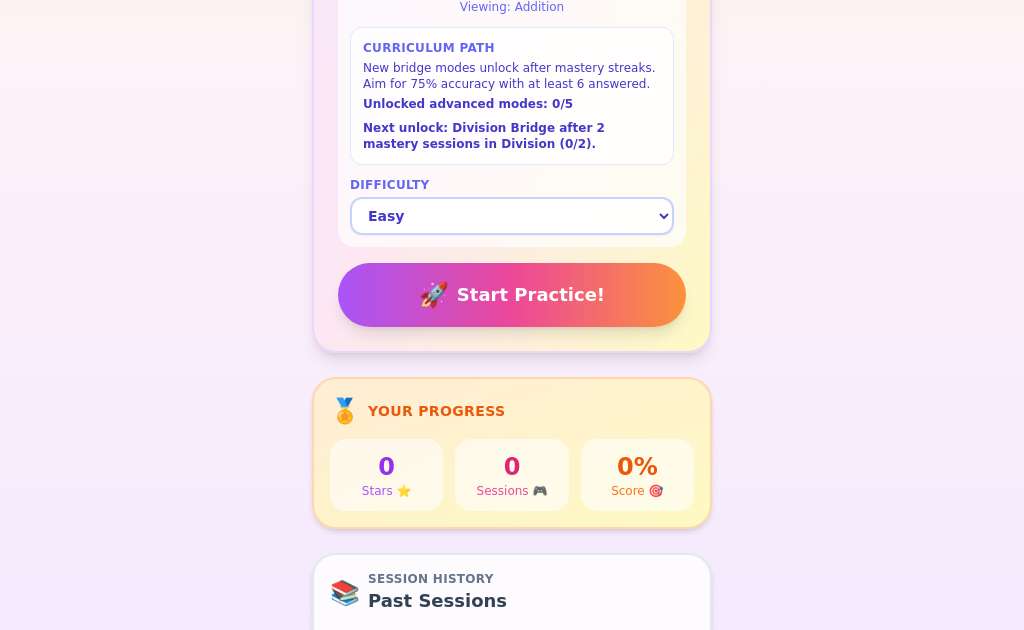
Test: deletes a session from the history list
(page scrolled)
Click the button "🚀 Start Practice!": [512, 295] box [338, 263, 686, 327]
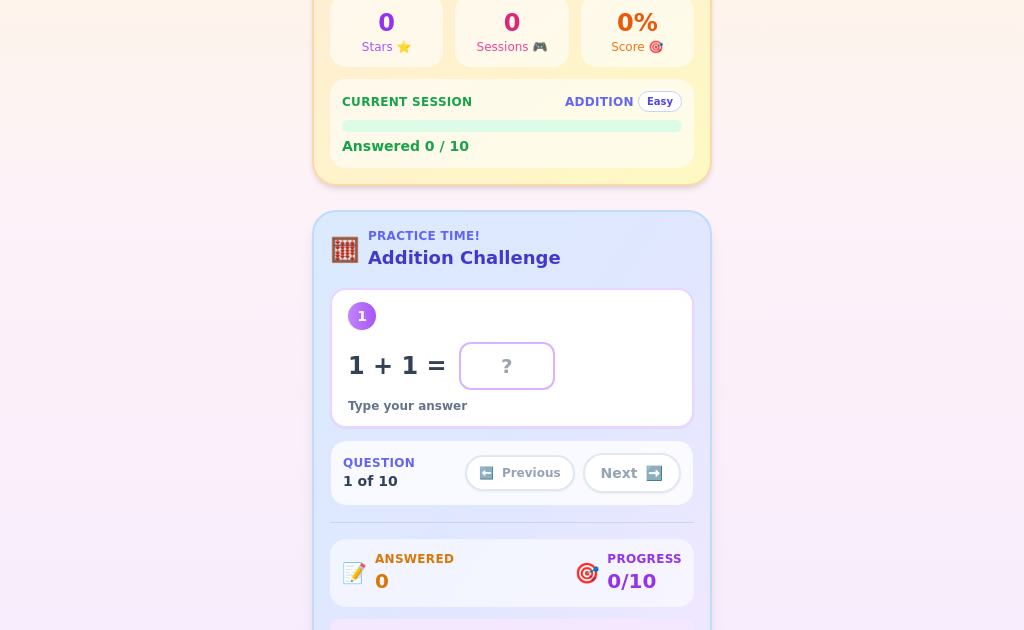
In the field named "answer for question 1": [507, 366] box [459, 342, 555, 390], type "1"
(page scrolled)
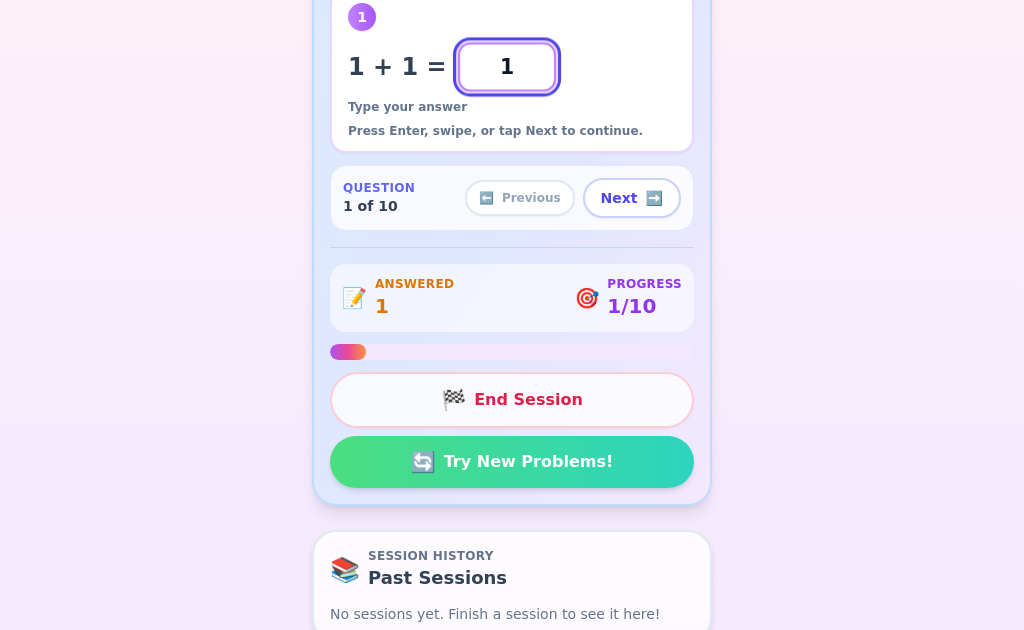
Click the button with aria-label "end current session": [512, 400] box [330, 372, 694, 428]
(page scrolled)
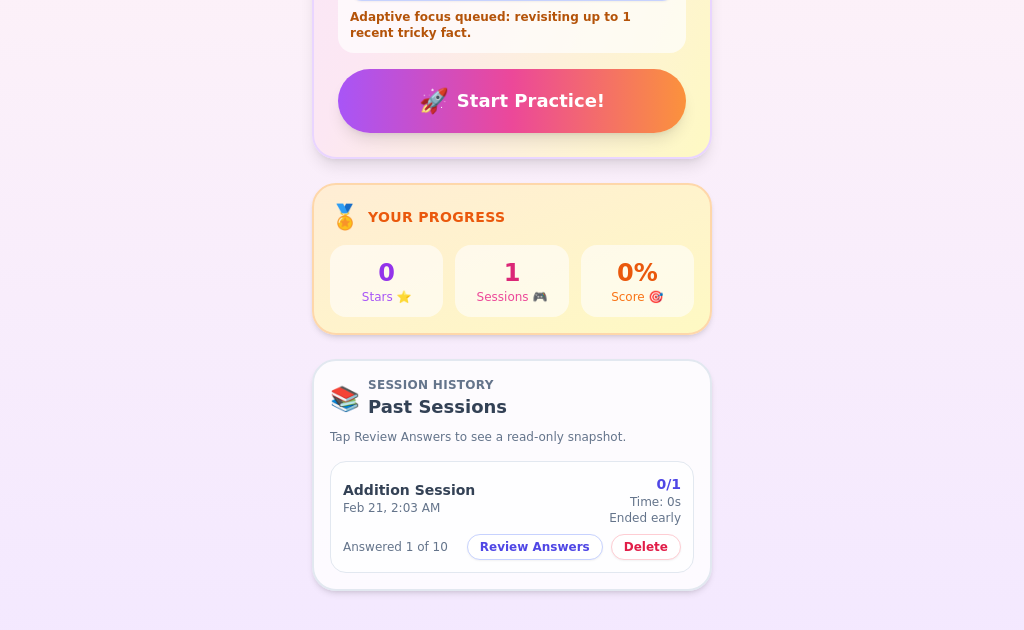
Now the text "Addition Session" is shown, box [343, 480, 475, 500]
Click the button "Delete": [646, 547] box [611, 534, 681, 560]
(page scrolled)
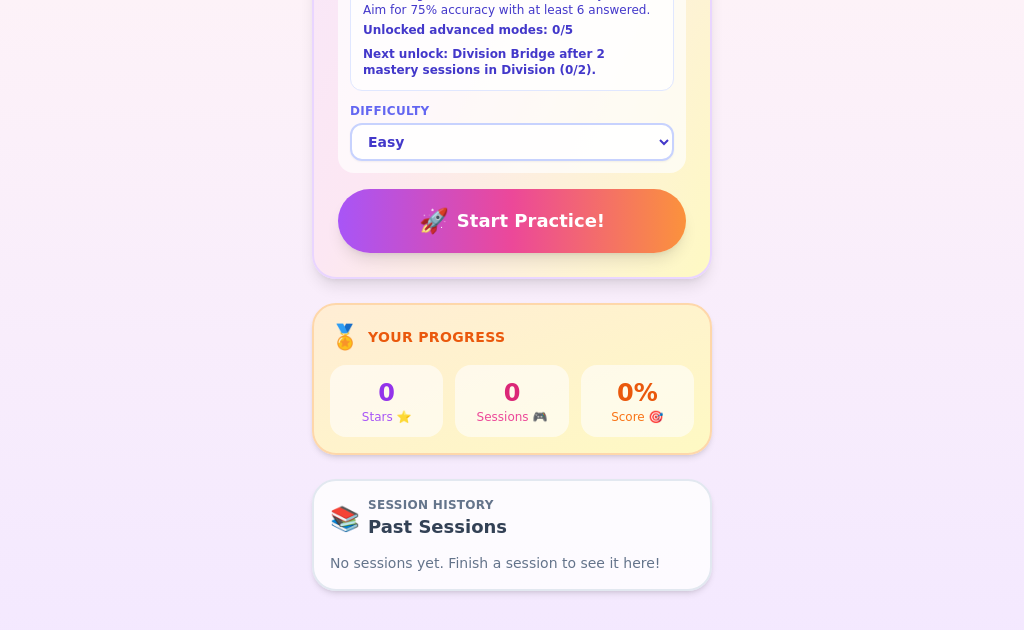
Now the text "Addition Session" is gone
Now the text "No sessions yet. Finish a session to see it here!" is shown, box [330, 553, 694, 573]
